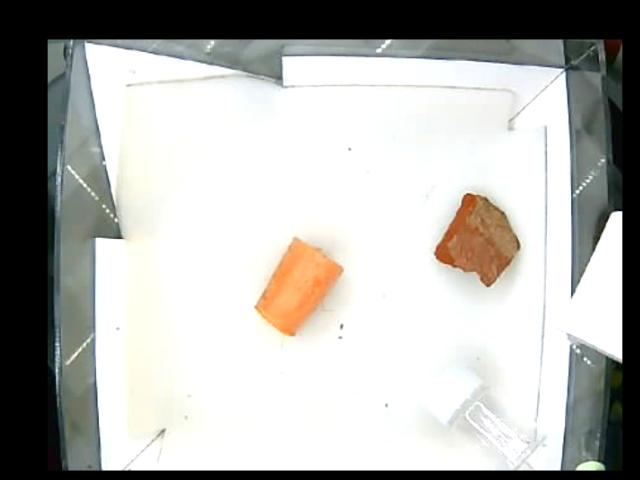Bottle: (419, 363, 541, 469)
Brisk: (432, 193, 520, 290)
Carrot: (255, 233, 344, 336)
